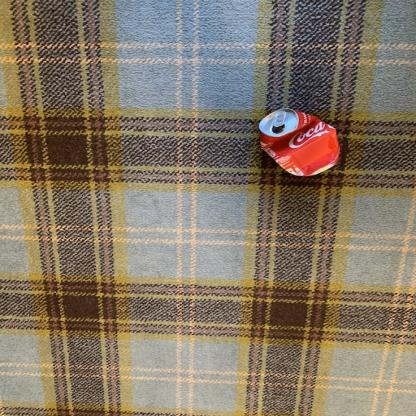trash: (257, 108, 352, 184)
